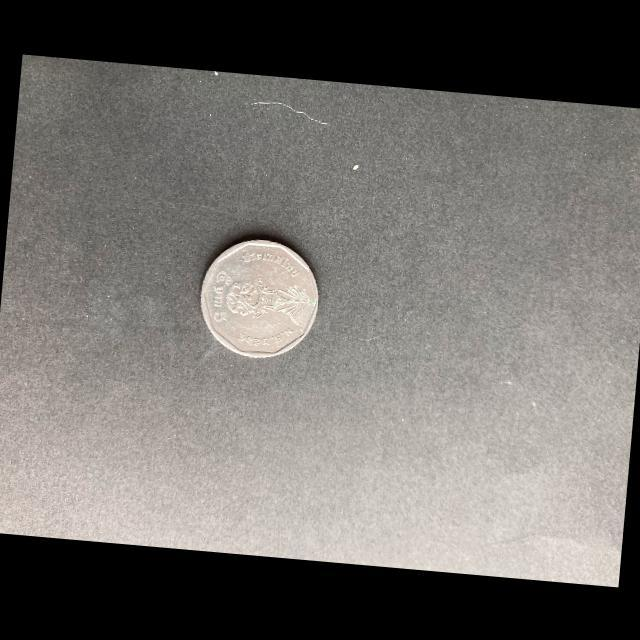5 Bath: (198, 235, 324, 361)
